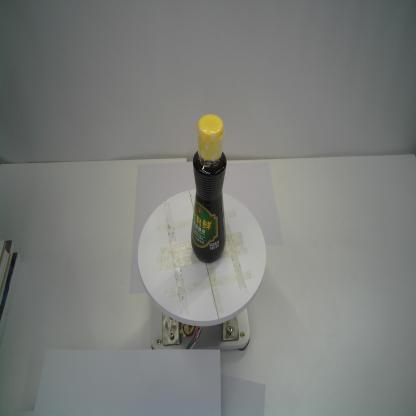Seasoner: (190, 111, 228, 266)
